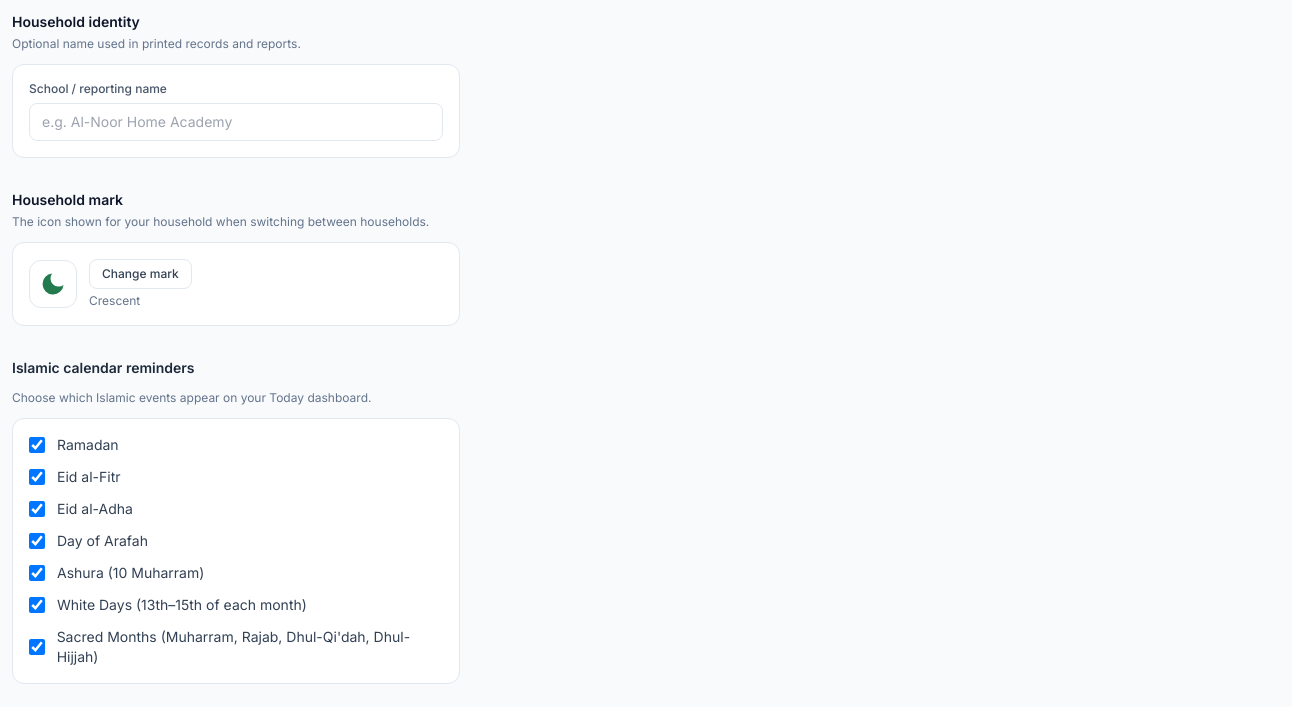
HouseholdSettings — reporting name › typing in the reporting name shows unsaved-changes warning
Type "Al-Noor" into the field labelled "School / reporting name". click: (236, 122)
box: [29,103,443,141]
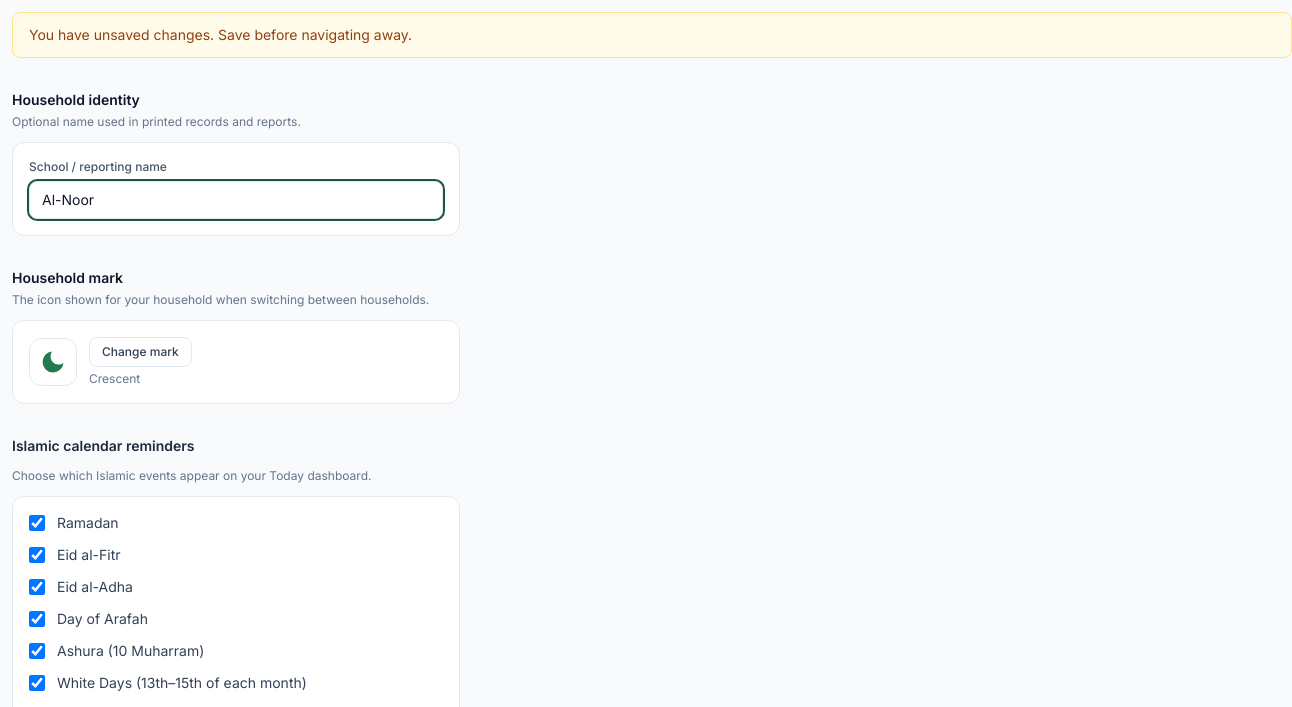
Now the message shows "unsaved changes", box [29,26,412,43]
